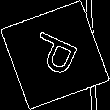P_SE: (24, 27, 86, 83)
